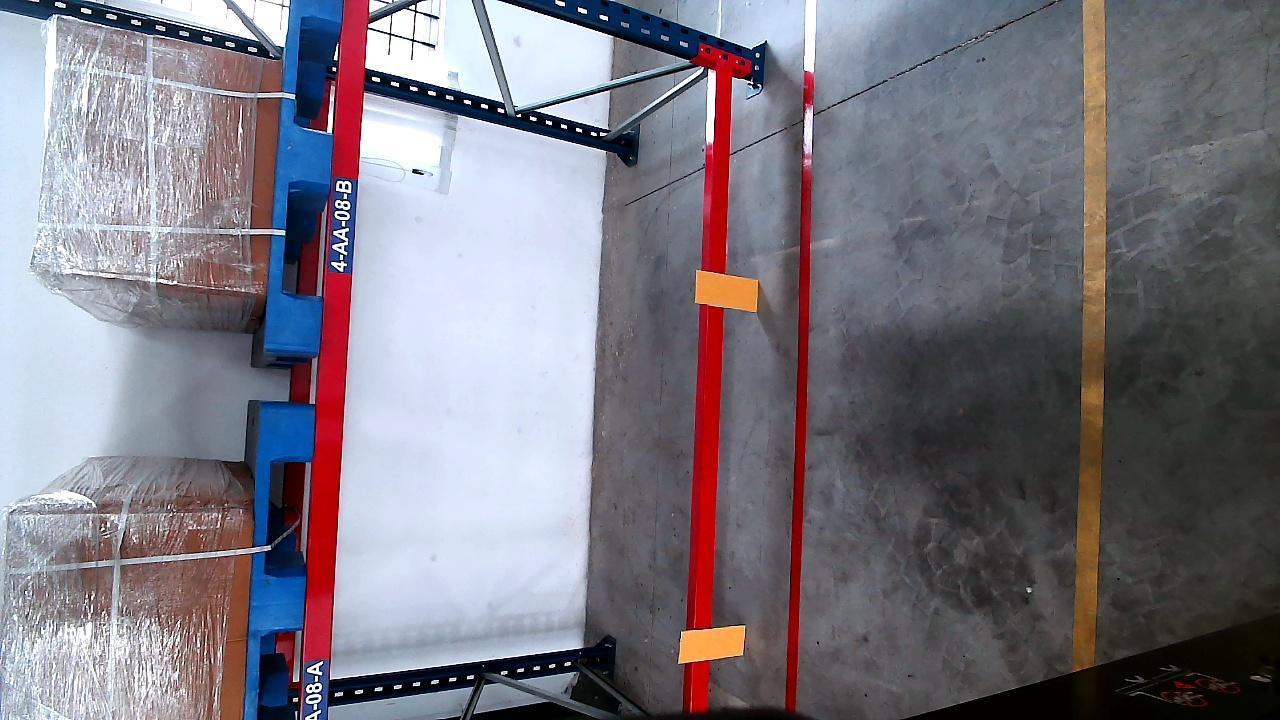h_rack: (301, 0, 368, 720), (692, 67, 732, 720)
orange_strip: (678, 625, 747, 662), (697, 272, 760, 308)
red_line: (785, 68, 816, 710)
small_pallet: (267, 0, 345, 355), (246, 412, 315, 717)
yellow_line: (1077, 4, 1110, 672)
